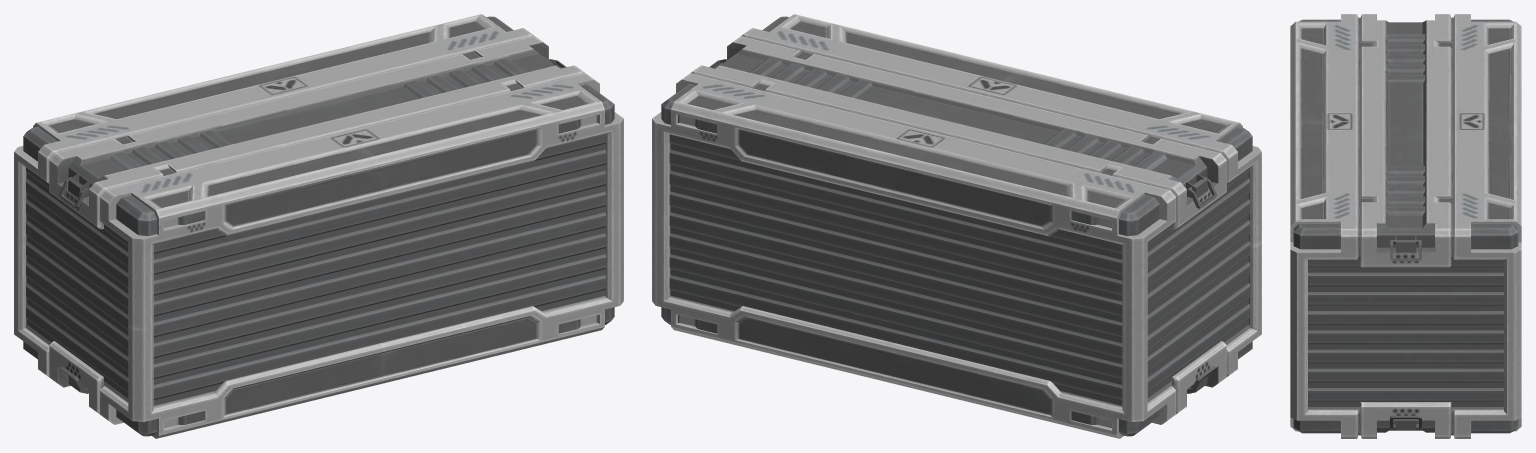
File: Prop_Crate_Large.glb
3 views of the same model, side by side, from view 1: azimuth 30°, elevation 25°; view 2: azimuth 150°, elevation 25°; view 3: azimuth 270°, elevation 25° (orthographic). The views are drawn at different scales.
Parts seen in each view (by area): view 1: Prop_Crate_Large; view 2: Prop_Crate_Large; view 3: Prop_Crate_Large.
Boxes of the visible parts, x1,y1,x2,y2 form: Prop_Crate_Large: [14, 14, 623, 438]; Prop_Crate_Large: [652, 14, 1261, 438]; Prop_Crate_Large: [1290, 14, 1521, 438].
Bounding box in the file's own units: 3.47 × 1.5 × 1.5.
Materials: 1 (1 with a texture image).
